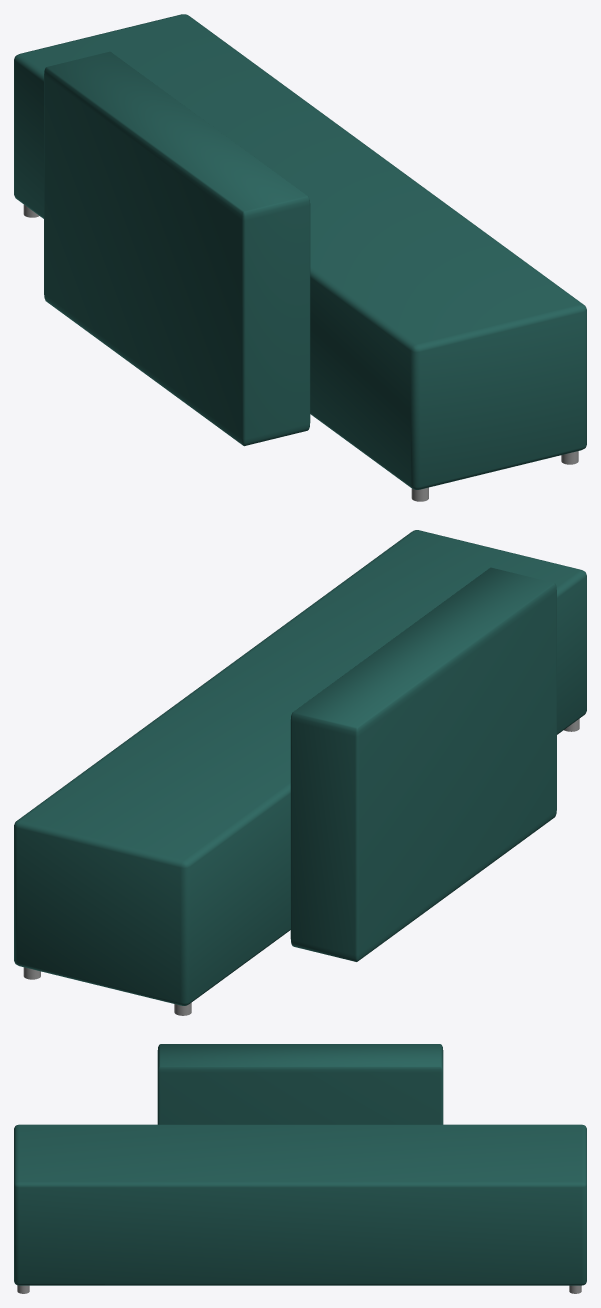
File: sillon_queso_largo.fbx
The picture shows the model from 3 angles, top to bottom: view 1: azimuth 30°, elevation 25°; view 2: azimuth 150°, elevation 25°; view 3: azimuth 270°, elevation 25°; orthographic projection. The views are drawn at different scales.
Visible parts, largest first — view 1: Cube, Cube.001; view 2: Cube, Cube.001; view 3: Cube, Cube.001.
Boxes of the visible parts, x1,y1,x2,y2 form: Cube: [14, 14, 586, 489]; Cube.001: [44, 51, 310, 446]; Cube: [14, 530, 586, 1005]; Cube.001: [290, 567, 556, 961]; Cube: [14, 1124, 586, 1285]; Cube.001: [157, 1044, 443, 1124].
Size of the model in its own units: 279 by 257 by 795.
